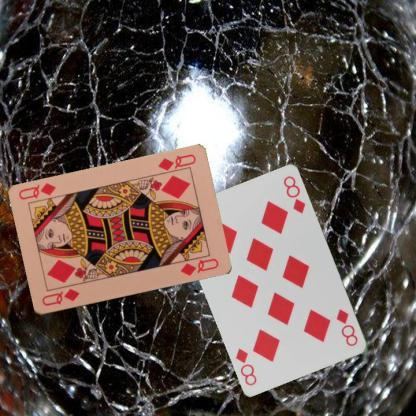8d: (334, 306, 360, 348)
Qd: (154, 152, 197, 177), (40, 286, 80, 308)
